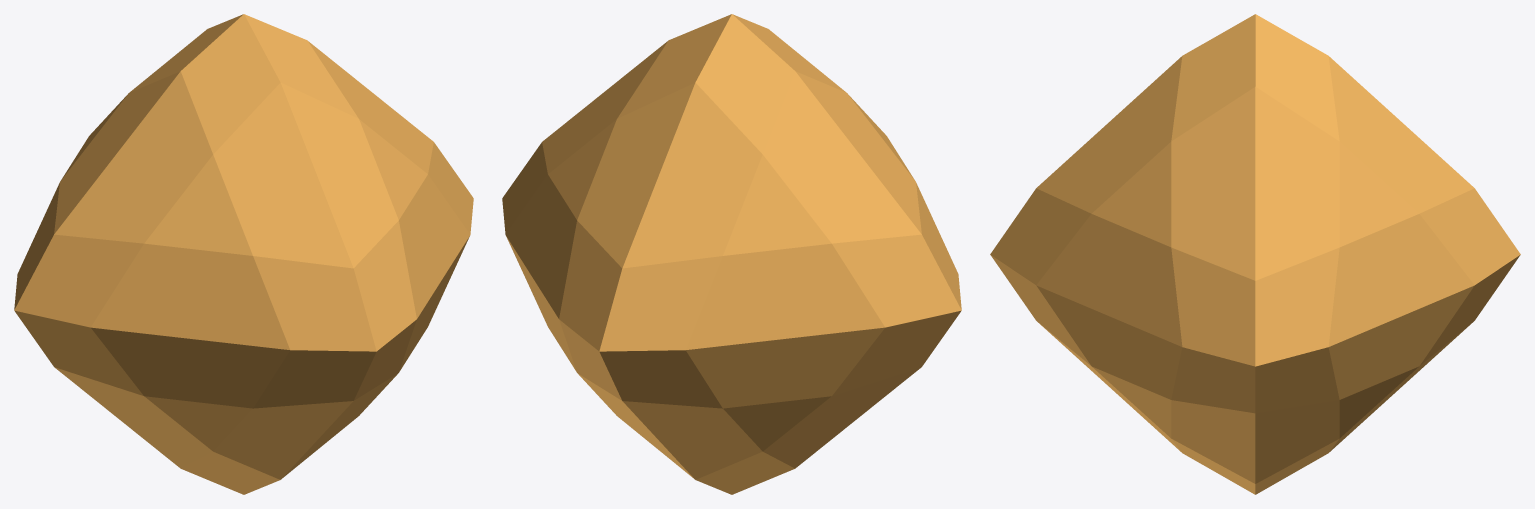
File: Gem_01.fbx
3 views of the same model, side by side, from view 1: azimuth 30°, elevation 25°; view 2: azimuth 150°, elevation 25°; view 3: azimuth 270°, elevation 25° (orthographic).
Parts seen in each view (by area): view 1: Gem_01; view 2: Gem_01; view 3: Gem_01.
Part boxes in pixels (bbox=[...]): Gem_01: bbox=[14, 14, 473, 494]; Gem_01: bbox=[502, 14, 961, 494]; Gem_01: bbox=[990, 14, 1520, 494].
Size of the model in its own units: 287 by 287 by 287.
